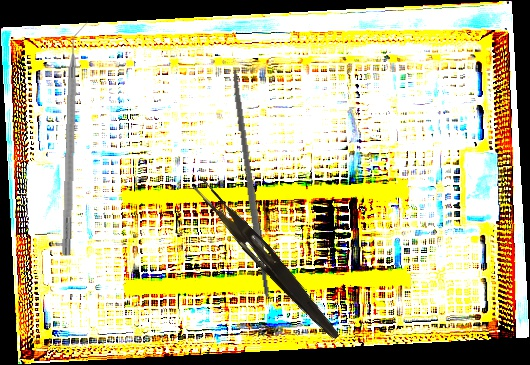Chopper: (61, 20, 92, 257)
Dressing Forceps: (186, 176, 348, 343)
Scalpel Handle: (228, 68, 272, 300)
